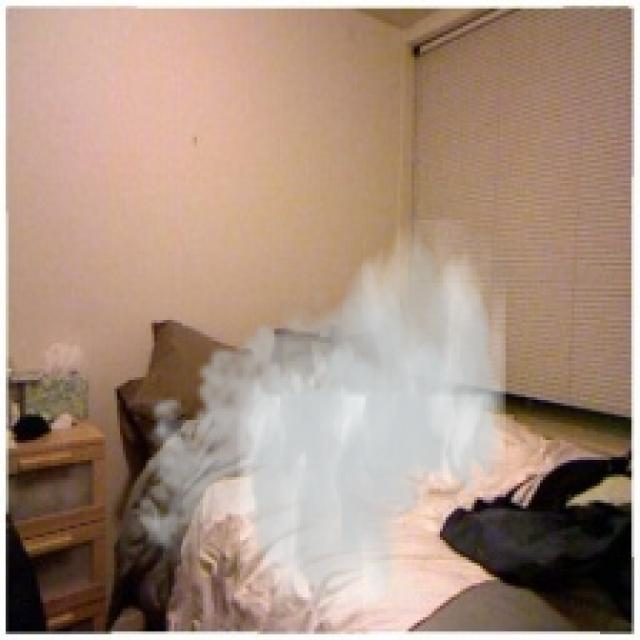Smoke: (126, 220, 508, 637)
